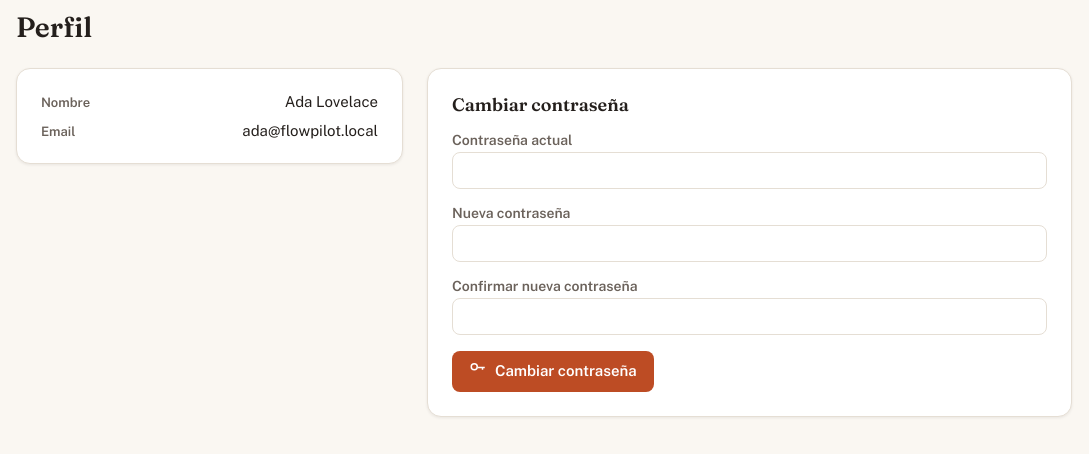
Test case: ProfileComponent › blocks submission client-side when the confirmation does not match
The image size is (1089, 454).
Type "oldSecret1" into the password field with test id "profile-current-password" at (750, 170), box left=452, top=152, right=1047, bottom=189
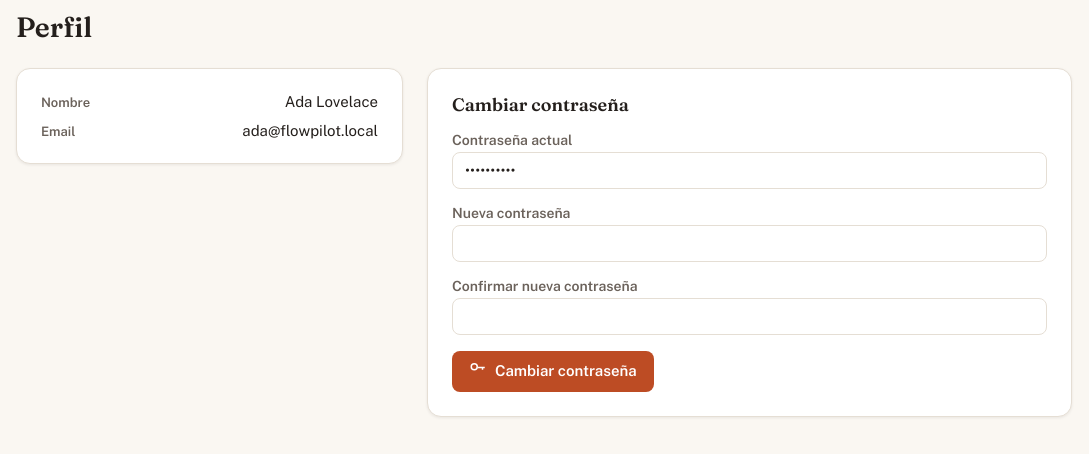
Type "newSecret1" into the password field with test id "profile-new-password" at (750, 244), box left=452, top=225, right=1047, bottom=262
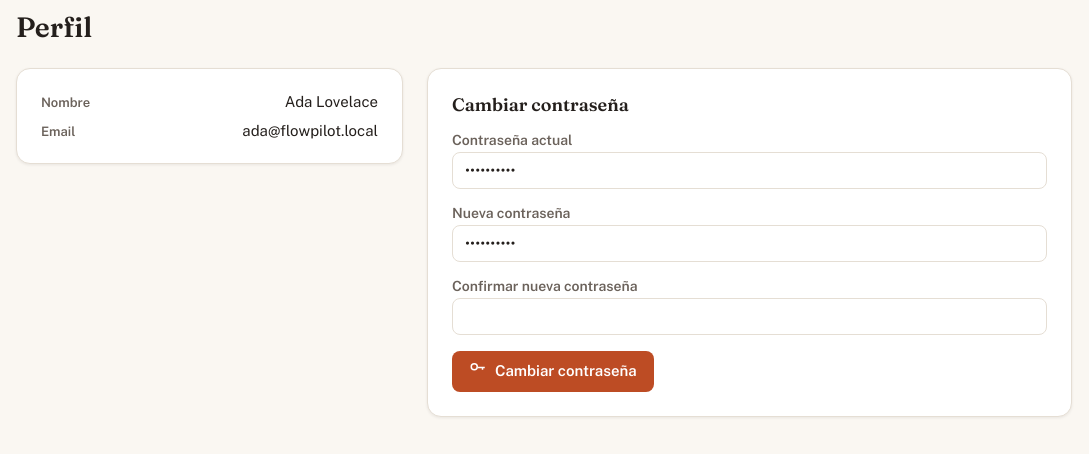
Type "somethingElse1" into the password field with test id "profile-confirm-password" at (750, 316), box left=452, top=298, right=1047, bottom=335
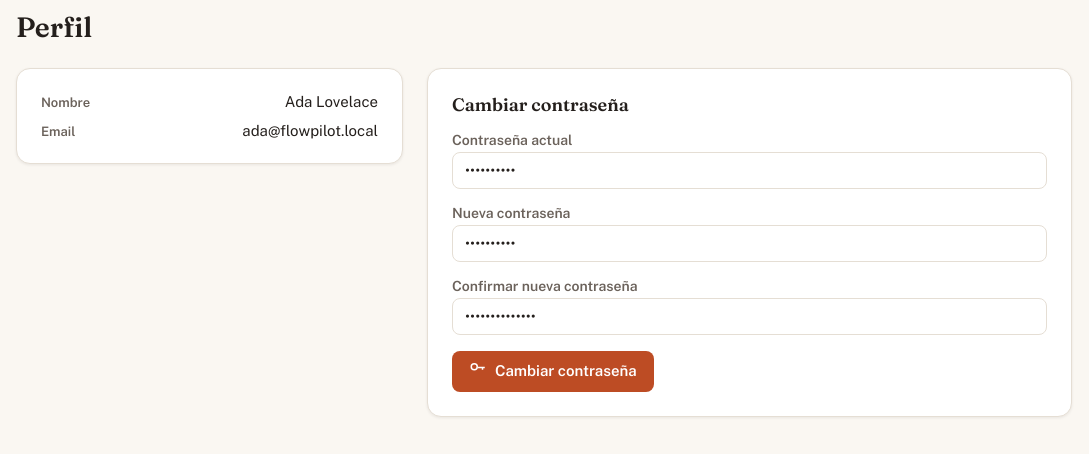
Submit the form, box left=452, top=93, right=1047, bottom=392
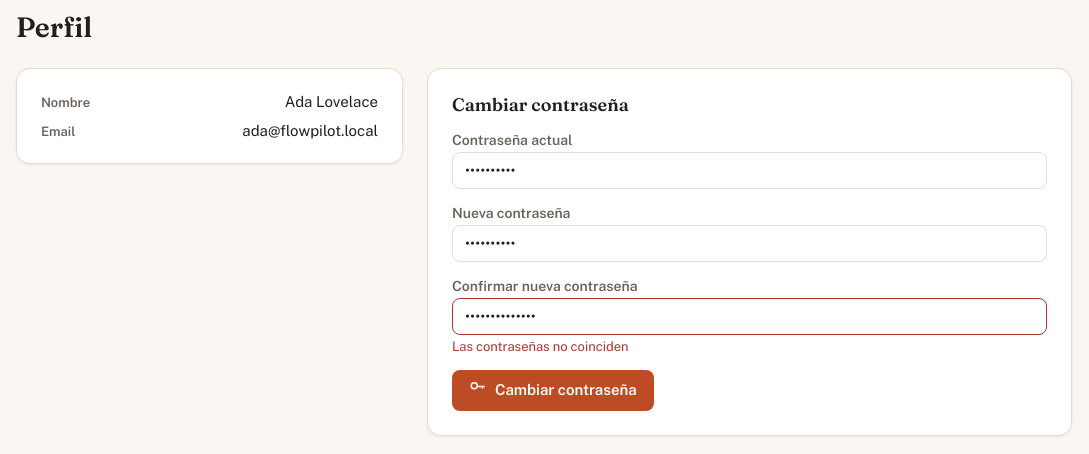
Result: the text with class "fp-input__error" shows "no coinciden" at left=452, top=339, right=629, bottom=354
